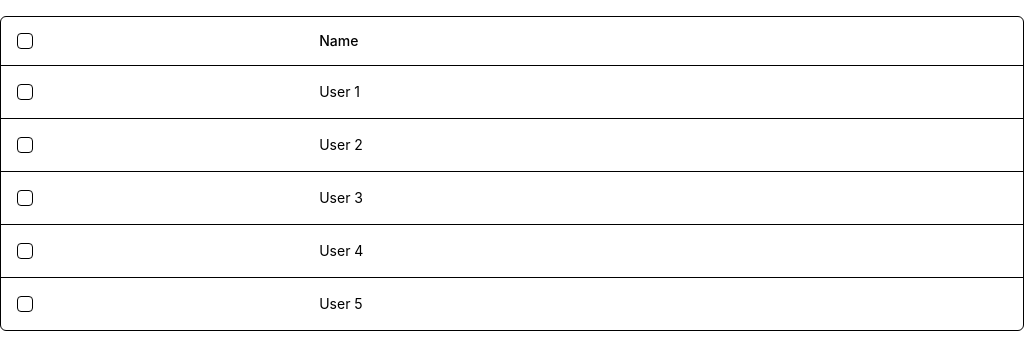
TableWidget - Advanced Features › Row Selection › selects all rows with header checkbox
Click the checkbox named "Select all" at (25, 41), box left=17, top=33, right=33, bottom=49
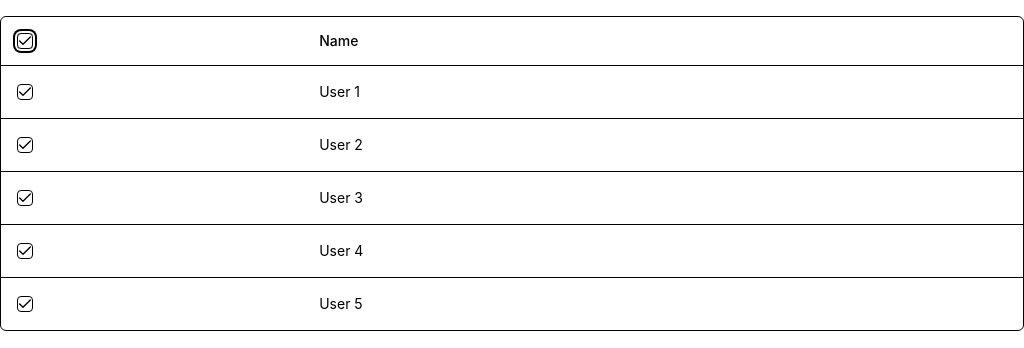
Result: the checkbox named "Select row" in the row of "User 1" is checked at left=17, top=84, right=33, bottom=100
Result: the checkbox named "Select row" in the row of "User 2" is checked at left=17, top=136, right=33, bottom=152
Result: the checkbox named "Select row" in the row of "User 3" is checked at left=17, top=190, right=33, bottom=206
